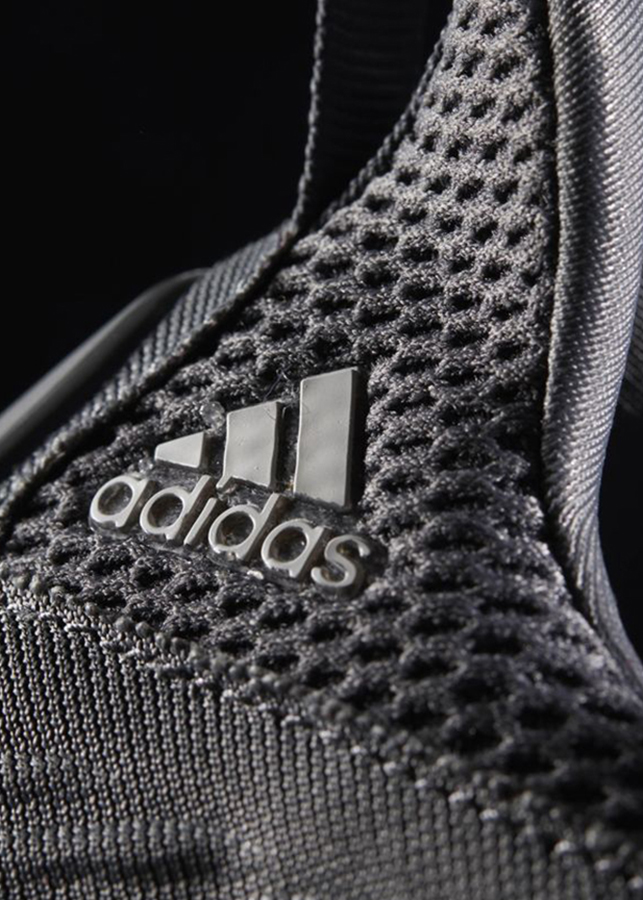Adidas: (84, 360, 395, 597)
